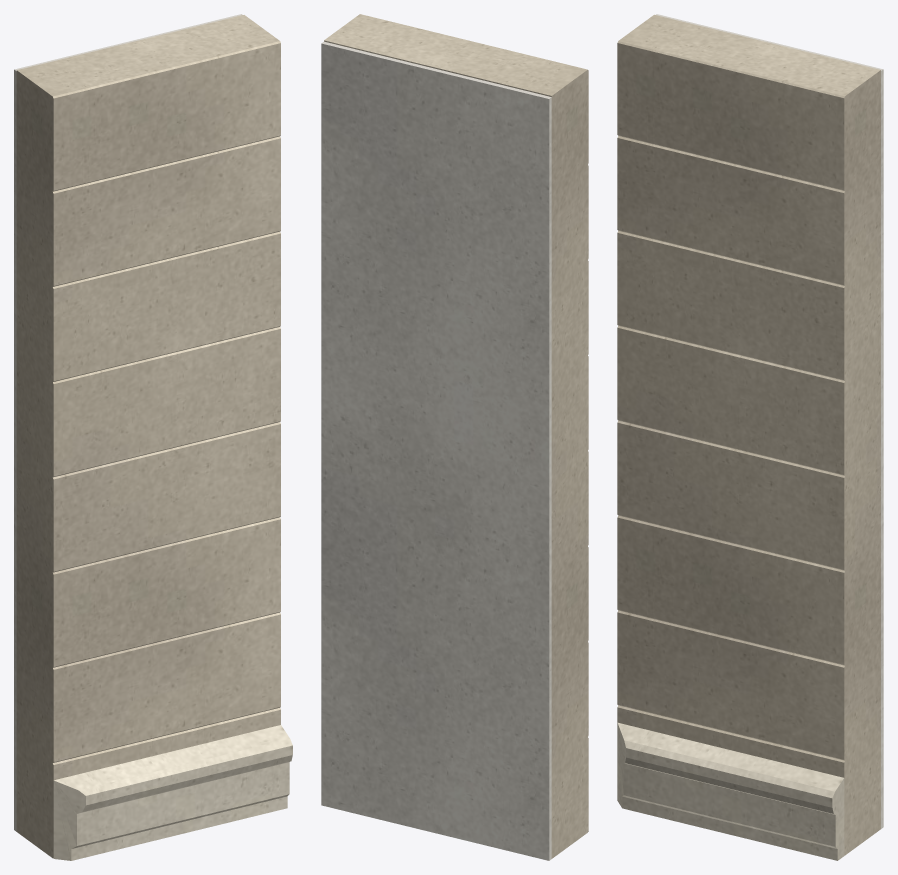
Rendered from pv_side_u1_l.glb.
3 renders of one model, left to right at view 1: azimuth 30°, elevation 25°; view 2: azimuth 150°, elevation 25°; view 3: azimuth 330°, elevation 25°, orthographic.
Parts seen in each view (by area): view 1: pv_side_u1_l_ashlar, pv_side_u1_l_trim, pv_side_u1_l_plaster; view 2: pv_side_u1_l_plaster, pv_side_u1_l_ashlar; view 3: pv_side_u1_l_ashlar, pv_side_u1_l_trim, pv_side_u1_l_plaster.
Boxes of the visible parts, x1,y1,x2,y2 form: pv_side_u1_l_ashlar: [16, 15, 280, 858]; pv_side_u1_l_trim: [53, 725, 292, 860]; pv_side_u1_l_plaster: [14, 14, 242, 831]; pv_side_u1_l_plaster: [321, 41, 551, 860]; pv_side_u1_l_ashlar: [324, 14, 588, 858]; pv_side_u1_l_ashlar: [617, 14, 880, 855]; pv_side_u1_l_trim: [617, 722, 844, 860]; pv_side_u1_l_plaster: [656, 14, 883, 828].
Bounding box in the file's own units: 1 × 3.2 × 0.39.
Materials: 3 (3 with a texture image).
